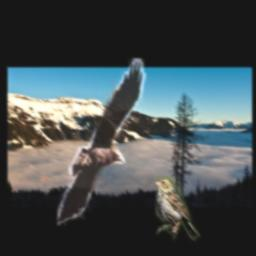Crow: (56, 58, 145, 226)
Sparrow: (156, 176, 200, 242)
